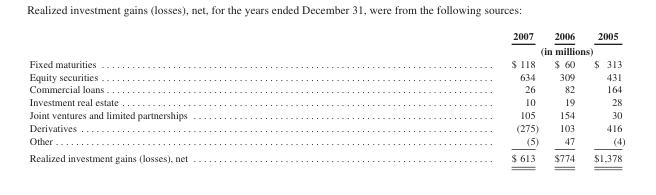table: (28, 29, 624, 163)
table column: (28, 29, 348, 163), (348, 29, 545, 163), (583, 29, 624, 163), (545, 29, 583, 163)
table column header: (28, 29, 624, 57)
table row: (28, 133, 624, 149), (28, 42, 624, 57), (28, 149, 624, 163), (28, 29, 624, 42), (28, 69, 624, 82), (28, 82, 624, 95), (28, 95, 624, 108), (28, 120, 624, 133), (28, 57, 624, 69), (28, 108, 624, 120)
table spanning cell: (348, 42, 624, 57)
